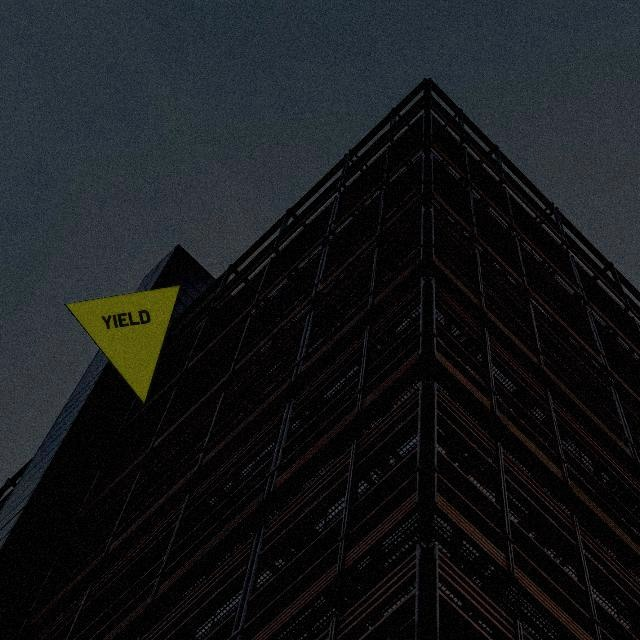YIELD: (64, 284, 182, 406)
